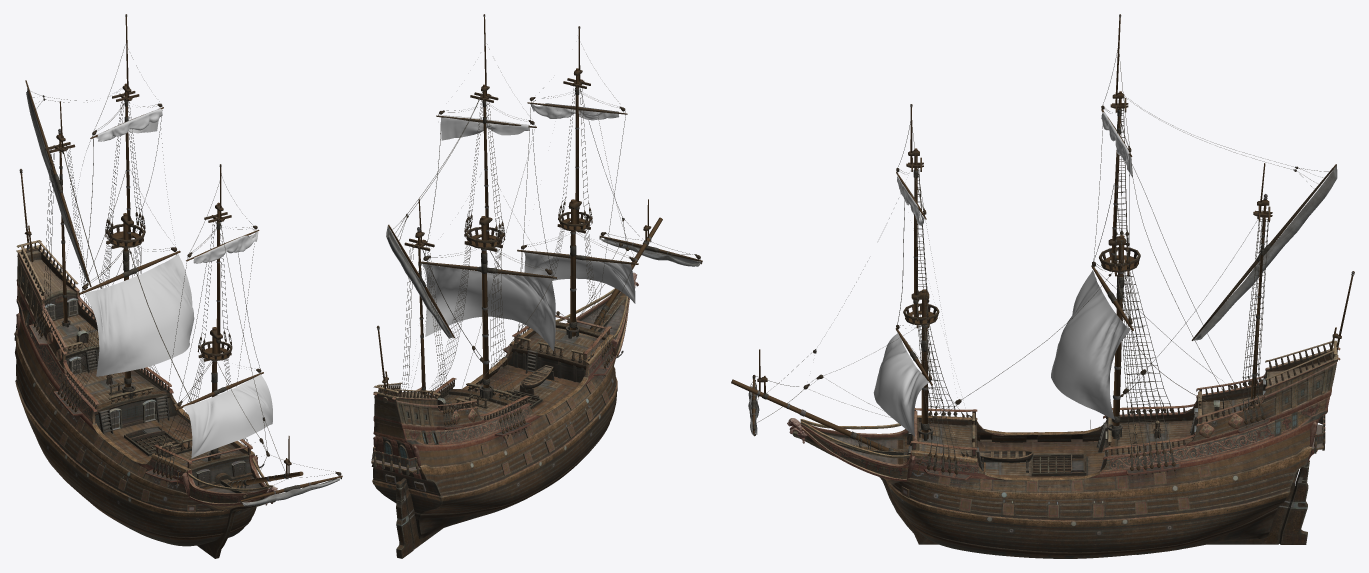
The model's file is dutch_ship_large_02_2k.gltf.
3 views of the same model, side by side, from view 1: azimuth 30°, elevation 25°; view 2: azimuth 150°, elevation 25°; view 3: azimuth 270°, elevation 25° (orthographic). The views are drawn at different scales.
Parts seen in each view (by area): view 1: dutch_ship_large_02_hull, dutch_ship_large_02_rigging, dutch_ship_large_02_sails; view 2: dutch_ship_large_02_hull, dutch_ship_large_02_rigging, dutch_ship_large_02_sails; view 3: dutch_ship_large_02_hull, dutch_ship_large_02_rigging, dutch_ship_large_02_sails.
Boxes of the visible parts, box(x1,y1,x2,y2) form: dutch_ship_large_02_hull: box(14, 240, 277, 558); dutch_ship_large_02_rigging: box(19, 14, 342, 506); dutch_ship_large_02_sails: box(85, 108, 272, 458); dutch_ship_large_02_hull: box(371, 272, 638, 558); dutch_ship_large_02_rigging: box(376, 14, 702, 445); dutch_ship_large_02_sails: box(422, 103, 635, 350); dutch_ship_large_02_hull: box(787, 340, 1340, 558); dutch_ship_large_02_rigging: box(731, 14, 1354, 483); dutch_ship_large_02_sails: box(873, 112, 1132, 436).
Bounding box in the file's own units: 8.54 × 32.08 × 34.25.
